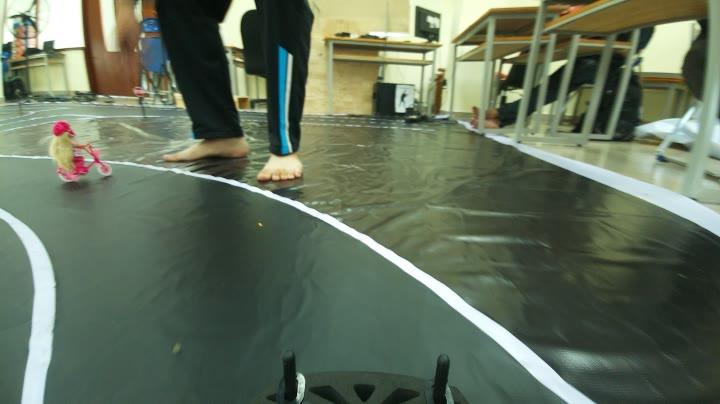pedestrian: (34, 121, 112, 185)
